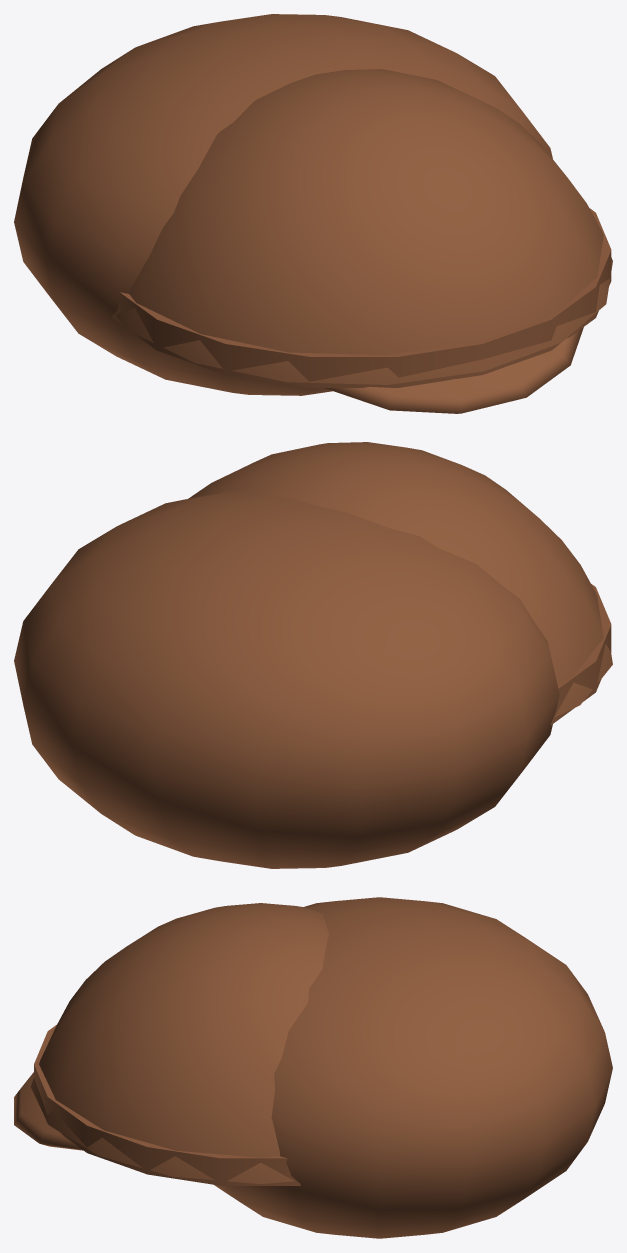
Rendered from hair_cap.glb.
The picture shows the model from 3 angles, top to bottom: view 1: azimuth 30°, elevation 25°; view 2: azimuth 150°, elevation 25°; view 3: azimuth 270°, elevation 25°; orthographic projection. The views are drawn at different scales.
Visible parts, largest first — view 1: Hair; view 2: Hair; view 3: Hair.
Boxes of the visible parts, left/top/right/bottom form: Hair: left=14, top=14, right=612, bottom=413; Hair: left=14, top=442, right=612, bottom=868; Hair: left=14, top=897, right=612, bottom=1238.
Size of the model in its own units: 14.06 by 8.88 by 17.19.
